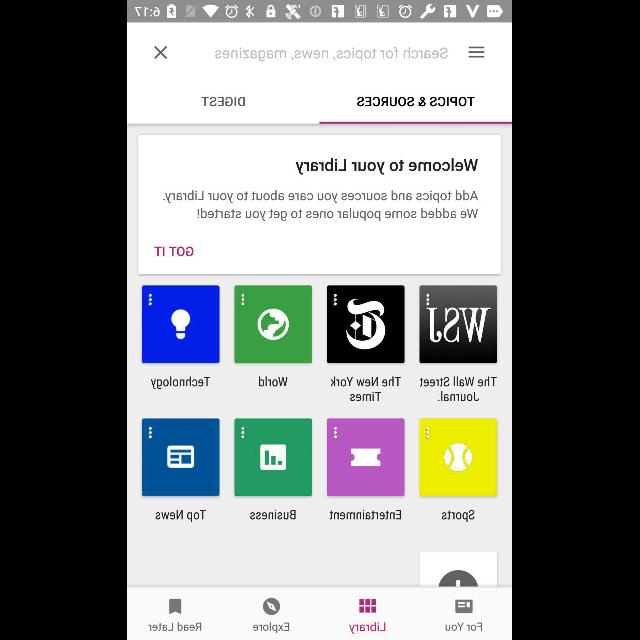icon: (264, 598, 280, 614), (456, 599, 474, 613), (359, 599, 376, 613), (154, 46, 168, 60), (170, 598, 182, 614), (469, 46, 485, 58), (426, 426, 430, 439), (149, 427, 153, 439), (334, 427, 338, 439), (149, 294, 153, 306), (242, 294, 246, 306), (334, 294, 338, 306), (426, 294, 429, 306), (242, 427, 244, 439)
image: (142, 419, 220, 497), (328, 418, 406, 496), (420, 418, 498, 496), (142, 285, 220, 363), (235, 285, 313, 363), (328, 285, 406, 363), (420, 285, 498, 363), (235, 419, 312, 497), (420, 551, 498, 587)
panel: (139, 133, 503, 274)
text: (164, 190, 478, 222), (216, 46, 448, 62), (296, 158, 478, 176), (420, 376, 498, 402), (332, 376, 402, 402), (358, 97, 476, 107), (152, 376, 210, 389), (330, 510, 402, 520), (156, 510, 207, 522), (251, 510, 297, 520), (253, 622, 290, 634), (349, 622, 386, 634), (202, 97, 246, 107), (150, 622, 202, 630), (442, 510, 476, 522), (154, 247, 193, 257), (260, 377, 288, 388), (446, 622, 482, 630)
uppertaskbar: (128, 1, 512, 23)
